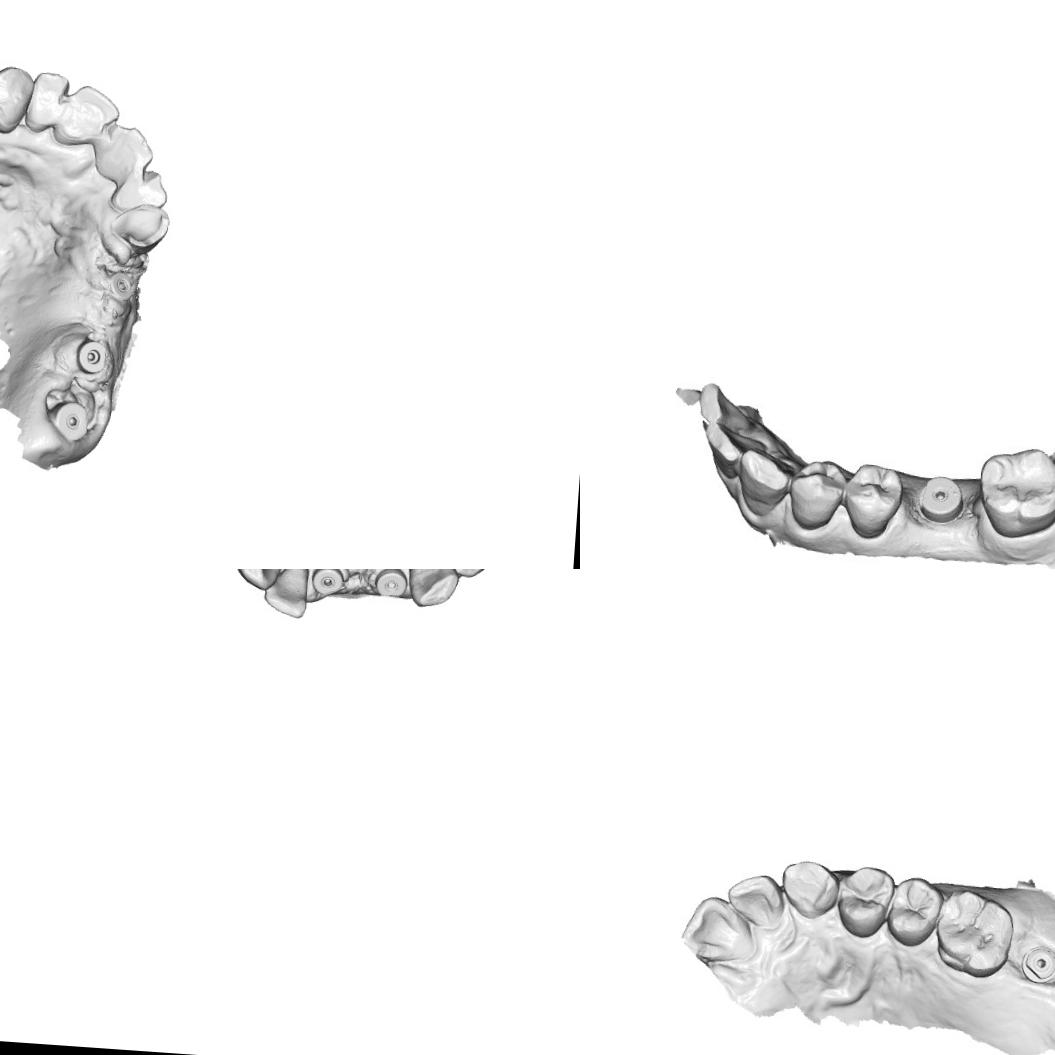canine: (777, 858, 841, 922), (738, 446, 790, 519), (107, 200, 172, 251), (0, 62, 37, 137), (404, 569, 461, 610), (229, 569, 287, 592)
implant: (917, 472, 967, 526), (48, 397, 90, 443), (1017, 938, 1055, 988), (74, 336, 109, 376), (371, 569, 410, 599), (106, 268, 138, 303), (308, 569, 344, 596)
incisor: (678, 892, 759, 967), (54, 82, 122, 149), (724, 870, 787, 929), (94, 122, 154, 182), (702, 423, 766, 478), (694, 378, 754, 433), (107, 164, 170, 214), (26, 68, 72, 132), (261, 569, 310, 619)
molar: (928, 884, 1016, 980), (975, 445, 1055, 532)
premolar: (833, 861, 898, 941), (786, 456, 852, 532), (883, 872, 945, 950), (844, 459, 902, 534)
